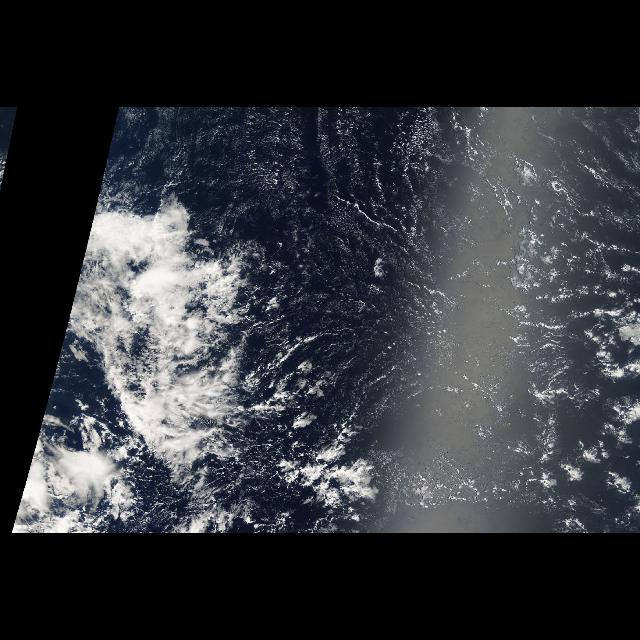Gravel: (477, 138, 637, 314)
Sugar: (236, 109, 524, 407)
